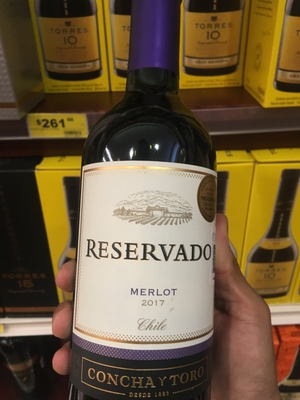reservado merlot: (71, 4, 226, 400)
